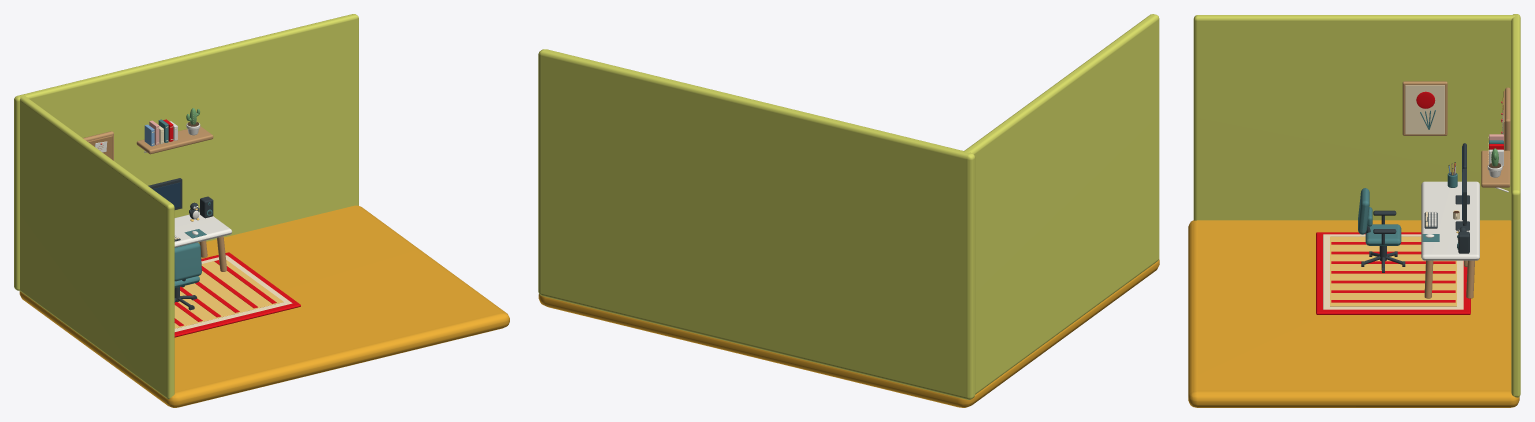
File: clay_workspace_deki1.glb
The picture shows the model from 3 angles, left to right: view 1: azimuth 30°, elevation 25°; view 2: azimuth 150°, elevation 25°; view 3: azimuth 270°, elevation 25°; orthographic projection. The views are drawn at different scales.
Parts seen in each view (by area): view 1: Back wall, Diorama plinth, Left wall, Rug golden center, White desk top, Rug woven stripe 02, Apricot rug, Ergonomic curved back, Rug cream inset, Floating ash shelf; view 2: Back wall, Left wall, Diorama plinth; view 3: Left wall, Diorama plinth, Rug golden center, Back wall, White desk top, Rug woven stripe 02, Apricot rug, Print paper, Rug cream inset, Floating ash shelf, Left wall print frame, Chair seat (+4 smaller).
Boxes of the visible parts, bbox=[...] form: Back wall: bbox=[14, 14, 358, 290]; Diorama plinth: bbox=[19, 205, 509, 407]; Left wall: bbox=[19, 95, 174, 399]; Rug golden center: bbox=[174, 259, 283, 328]; White desk top: bbox=[174, 212, 232, 247]; Rug woven stripe 02: bbox=[174, 260, 276, 326]; Apricot rug: bbox=[174, 252, 300, 337]; Ergonomic curved back: bbox=[174, 242, 201, 281]; Rug cream inset: bbox=[174, 255, 292, 331]; Floating ash shelf: bbox=[136, 126, 213, 154]; Back wall: bbox=[538, 49, 975, 399]; Left wall: bbox=[964, 14, 1159, 394]; Diorama plinth: bbox=[538, 259, 1159, 407]; Left wall: bbox=[1193, 15, 1514, 220]; Diorama plinth: bbox=[1188, 220, 1519, 407]; Rug golden center: bbox=[1330, 236, 1456, 306]; Back wall: bbox=[1511, 14, 1520, 397]; White desk top: bbox=[1421, 181, 1479, 260]; Rug woven stripe 02: bbox=[1331, 242, 1455, 302]; Apricot rug: bbox=[1316, 232, 1470, 314]; Print paper: bbox=[1405, 85, 1444, 134]; Rug cream inset: bbox=[1323, 234, 1463, 309]; Floating ash shelf: bbox=[1481, 150, 1510, 187]; Left wall print frame: bbox=[1402, 81, 1447, 135]; Chair seat: bbox=[1365, 224, 1401, 245].
Bounding box in the file's own units: 6.34 × 3.58 × 4.94.
